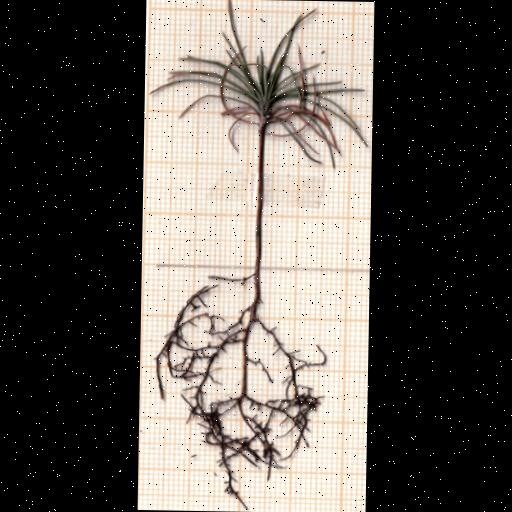flowerCedr: (152, 1, 369, 166)
rootCedr: (157, 285, 327, 508)
stemCedr: (256, 127, 265, 279)
